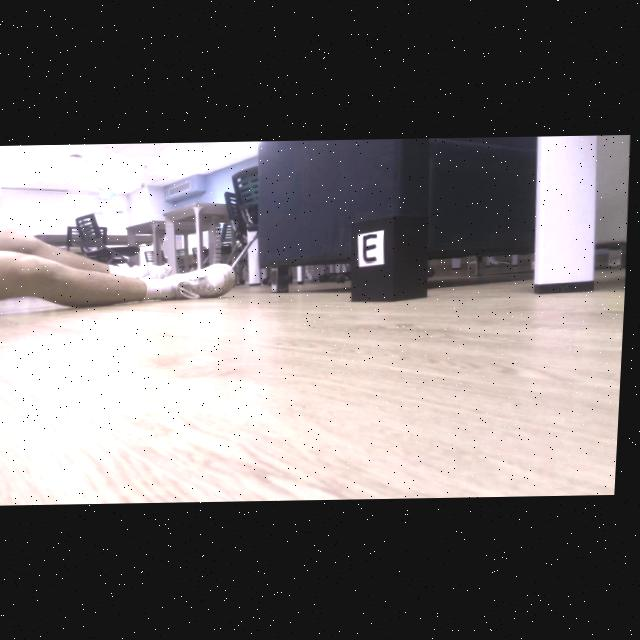E: (365, 234, 379, 262)
